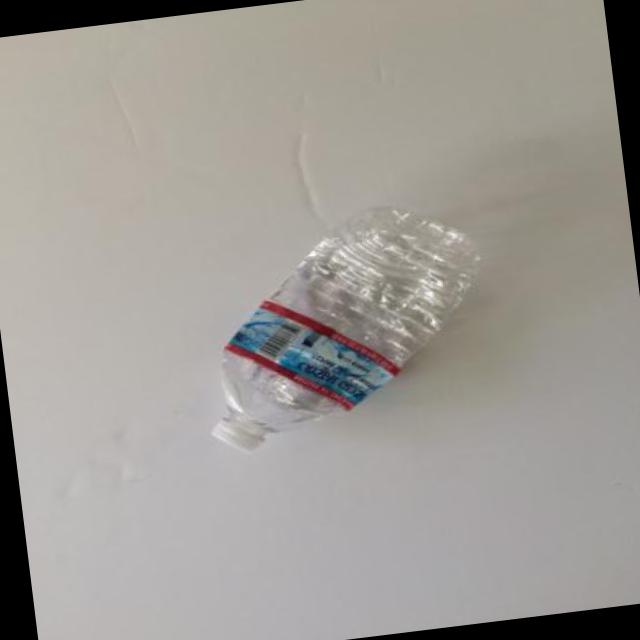bottle: (212, 208, 477, 450)
plastic: (270, 208, 477, 367)
